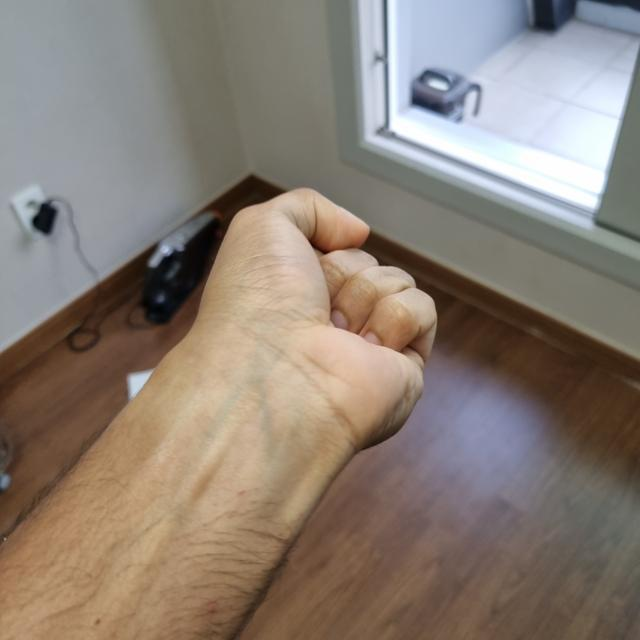Rock: (234, 188, 430, 500)
